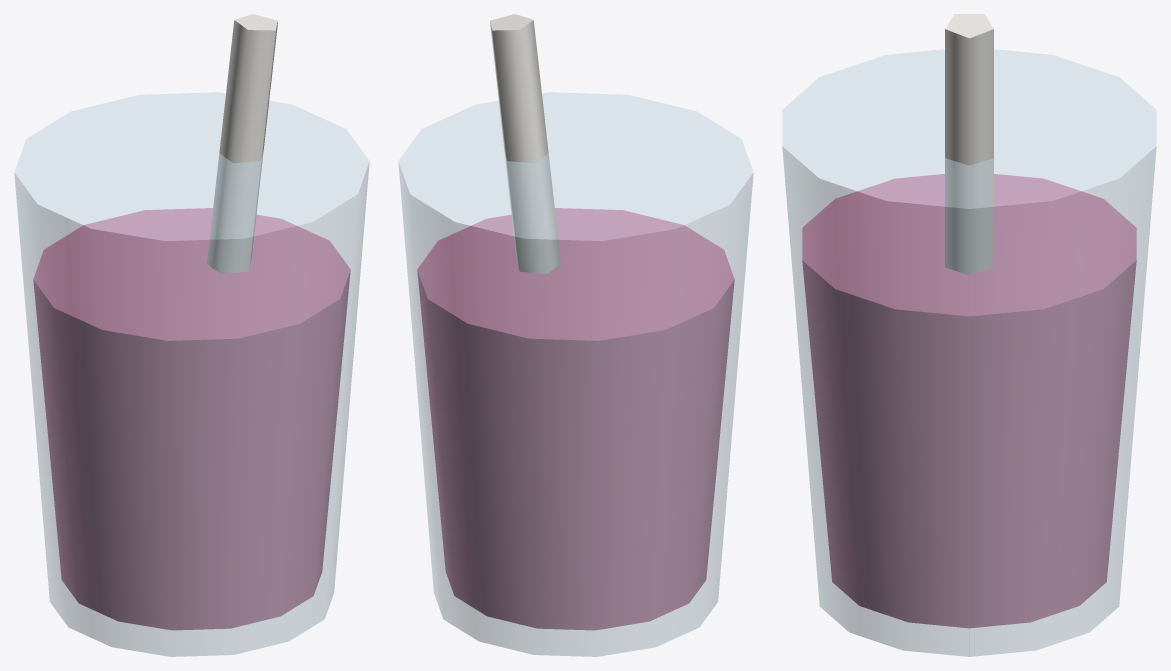
Rendered from glass.glb.
The picture shows the model from 3 angles, left to right: view 1: azimuth 30°, elevation 25°; view 2: azimuth 150°, elevation 25°; view 3: azimuth 270°, elevation 25°; orthographic projection. The views are drawn at different scales.
Visible parts, largest first — view 1: root; view 2: root; view 3: root.
Part boxes in pixels (x1=…): root: x1=14, y1=14, x2=369, y2=656; root: x1=398, y1=14, x2=753, y2=656; root: x1=782, y1=14, x2=1156, y2=656.
Bounding box in the file's own units: 0.15 × 0.2602 × 0.1462.
